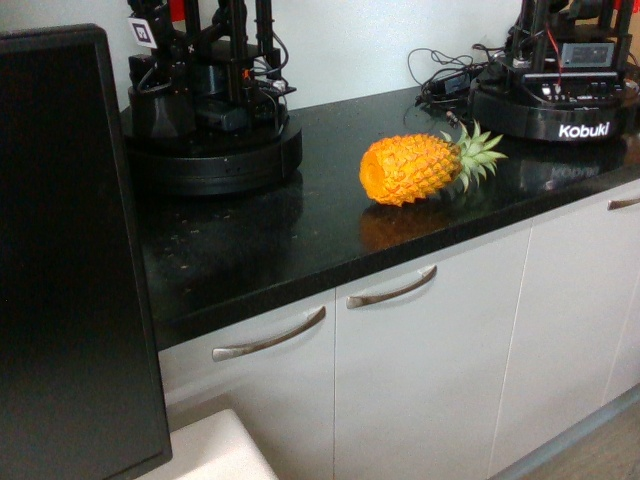pineapple: (356, 118, 510, 214)
